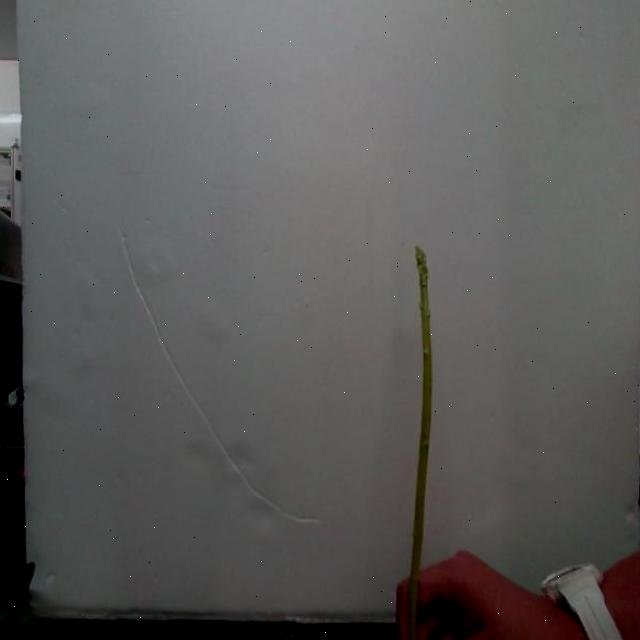aspargus: (410, 248, 434, 640)
